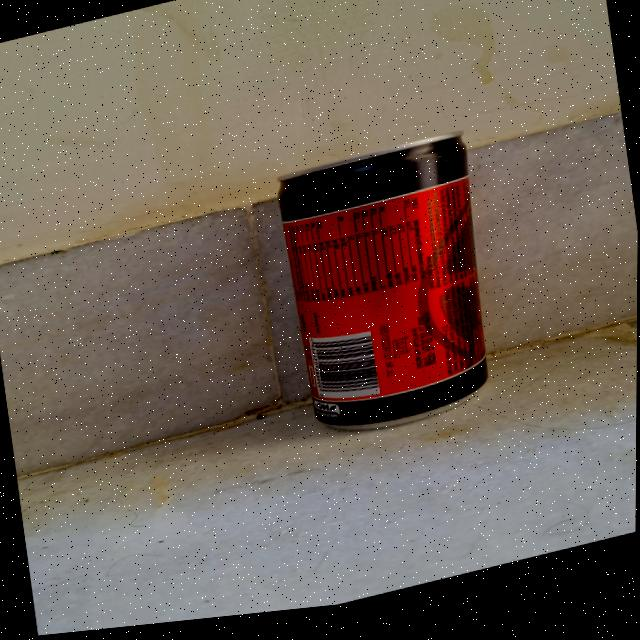Hell Classic: (222, 117, 524, 463)
